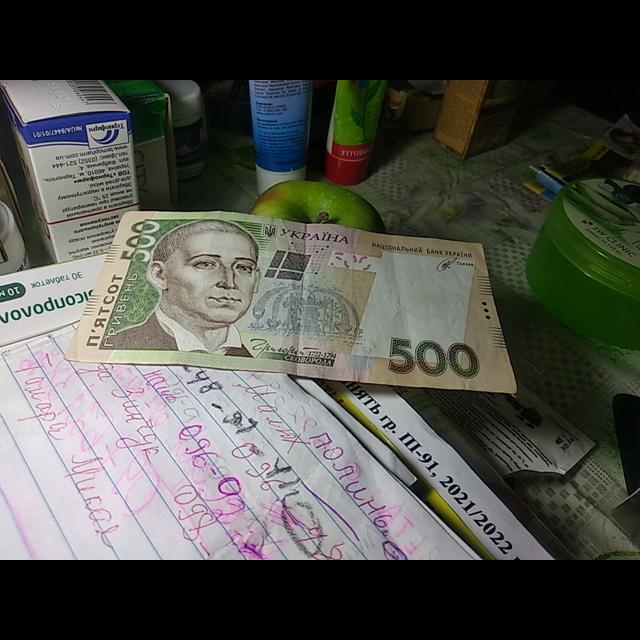500uah: (65, 210, 519, 396)
